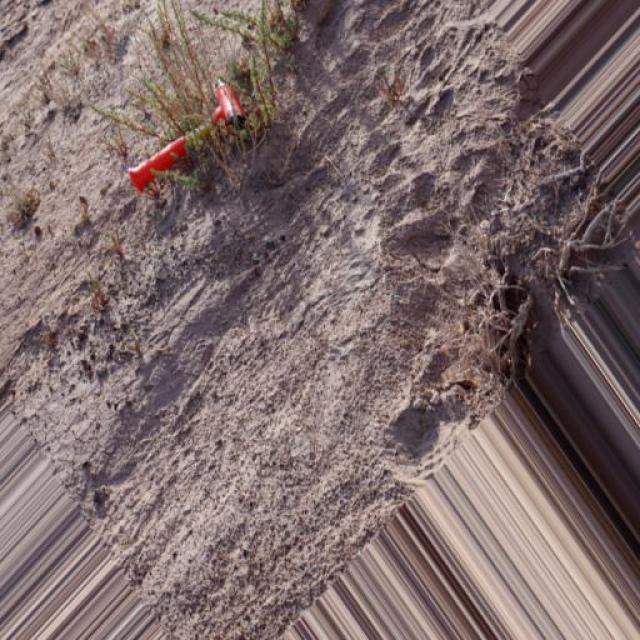mallet: (126, 78, 246, 194)
